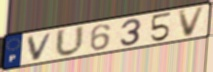3: (119, 17, 143, 48)
5: (149, 11, 173, 43)
6: (90, 23, 113, 51)
U: (54, 24, 86, 58)
V: (177, 5, 207, 39), (26, 31, 56, 62)
